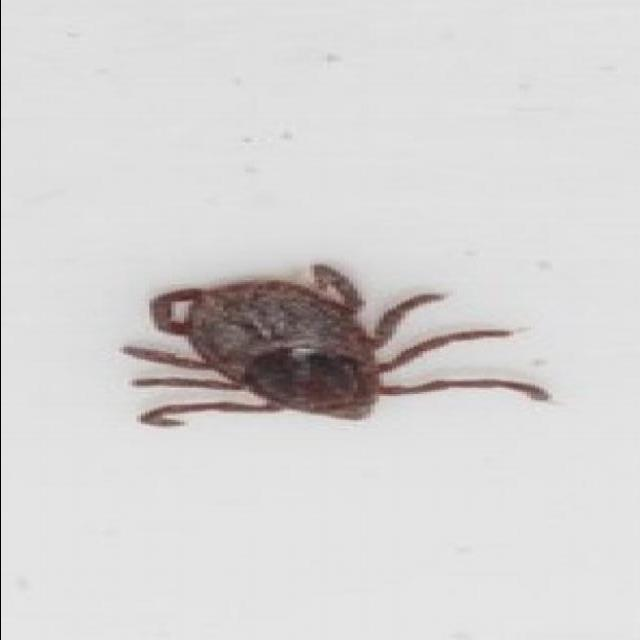Rhipicephalus Sanguineus-F: (119, 261, 548, 428)
